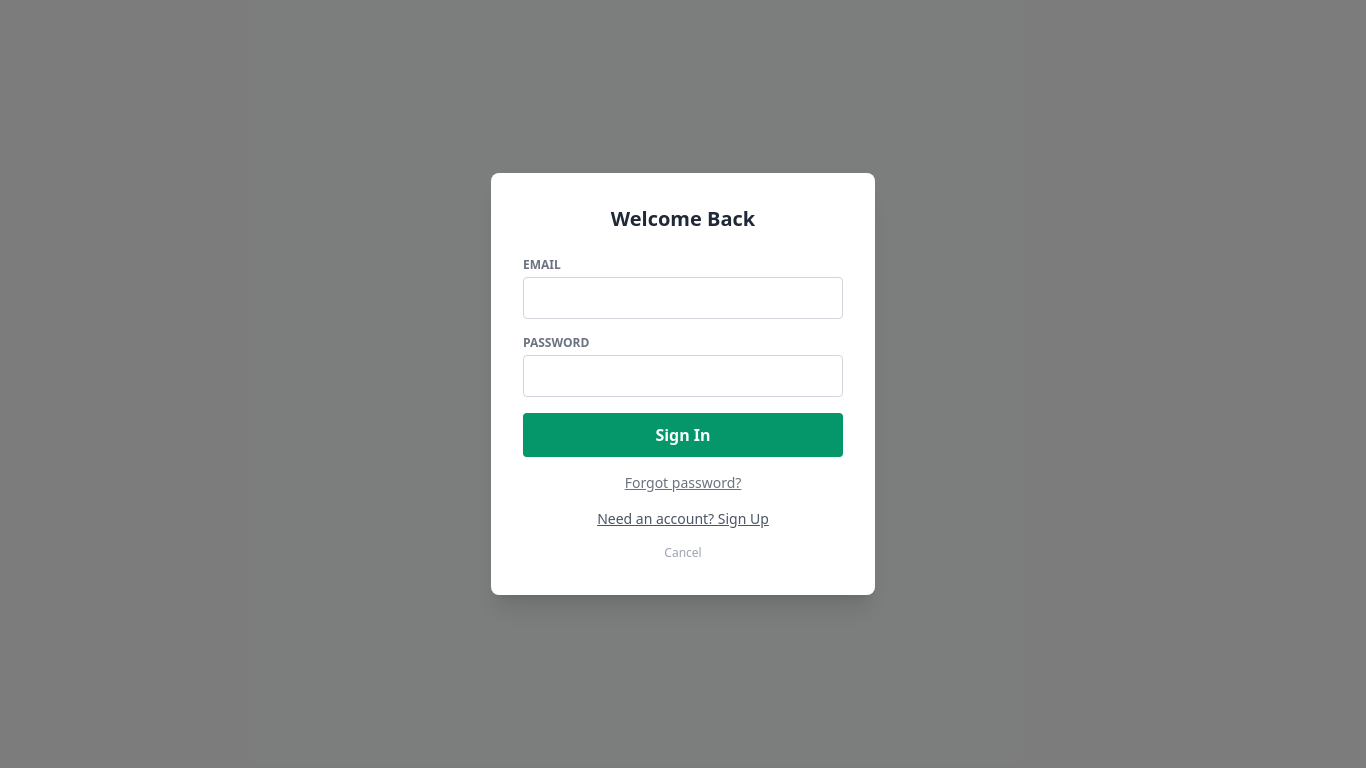
Test: AuthModal › switches to Reset Password mode when "Forgot password?" is clicked, hiding the password field
The width and height of the screenshot is (1366, 768).
Click the text with class "underline" showing "Forgot password?" at (683, 482), box [625,473,741,492]
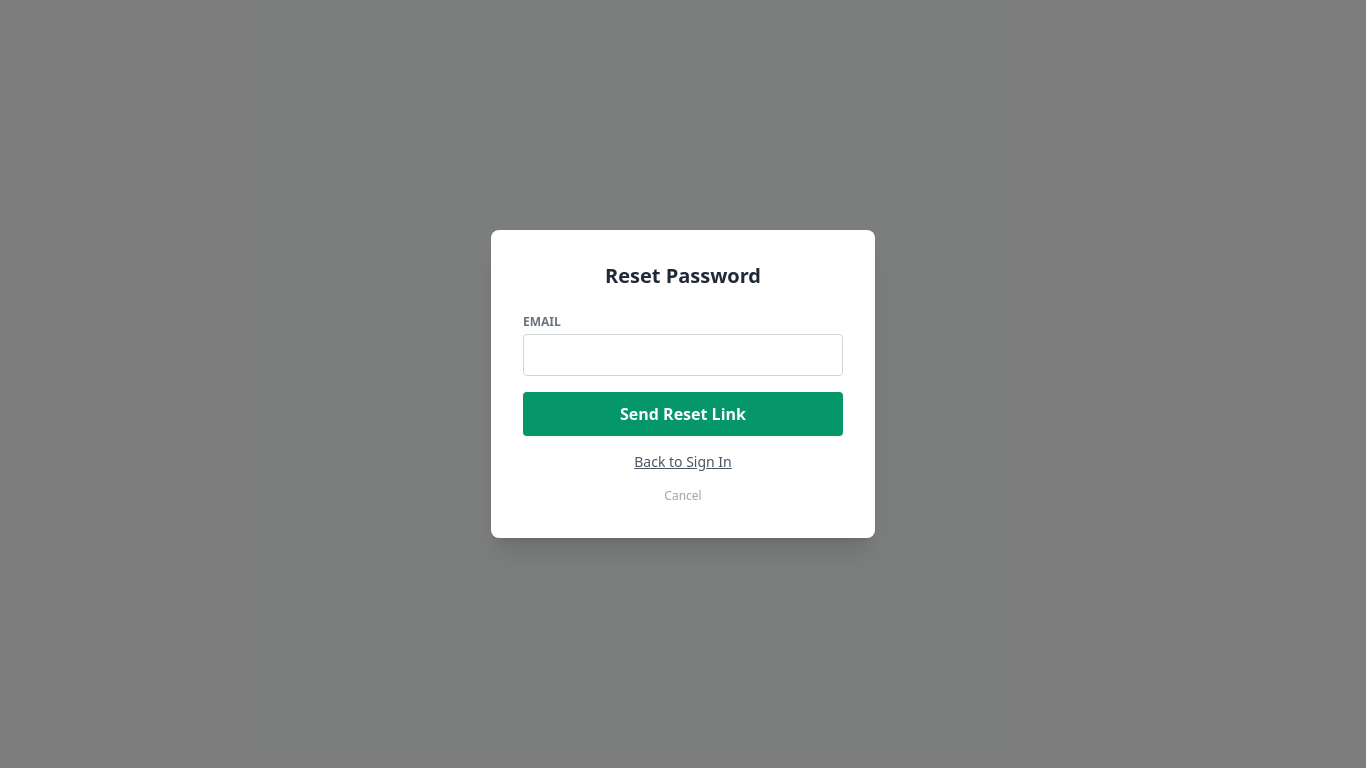
expect the text "Reset Password" is shown: met, box [605,262,761,289]
expect the button "Send Reset Link" is shown: met, box [523,392,843,436]
